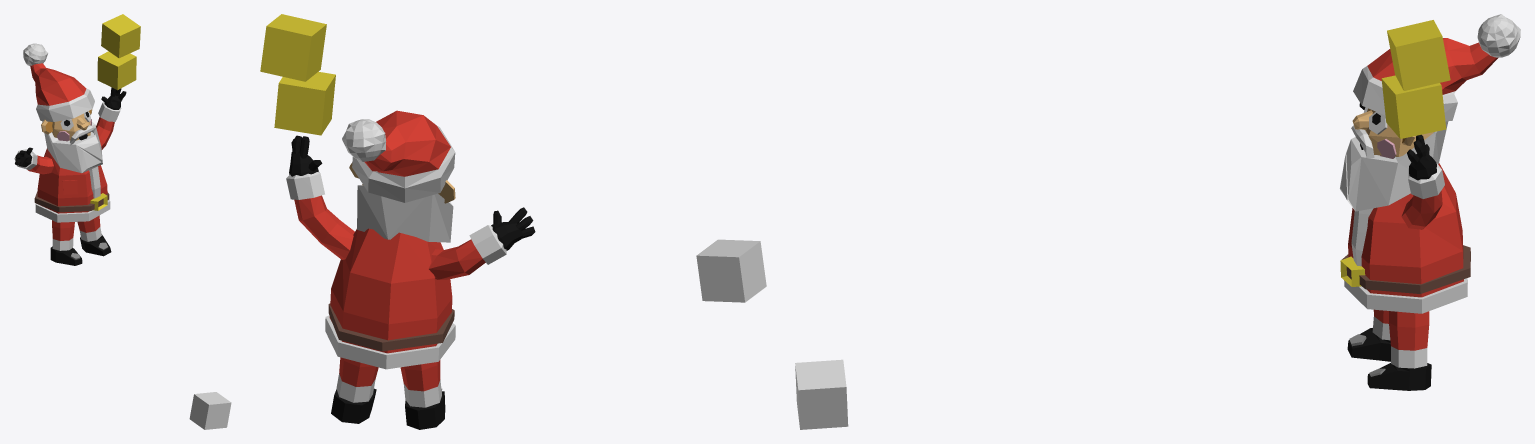
File: asset.gltf
3 views of the same model, side by side, from view 1: azimuth 30°, elevation 25°; view 2: azimuth 150°, elevation 25°; view 3: azimuth 270°, elevation 25° (orthographic). The views are drawn at different scales.
Visible parts, largest first — view 1: node_MeshObject676473856-PolyPaper8; view 2: node_MeshObject676473856-PolyPaper8; view 3: node_MeshObject676473856-PolyPaper8.
Part boxes in pixels (box(x1,y1,x2,y2)): node_MeshObject676473856-PolyPaper8: box(14, 14, 231, 429); node_MeshObject676473856-PolyPaper8: box(260, 14, 766, 429); node_MeshObject676473856-PolyPaper8: box(795, 14, 1520, 429).
Size of the model in its own units: 0.4583 by 0.842 by 1.2.
